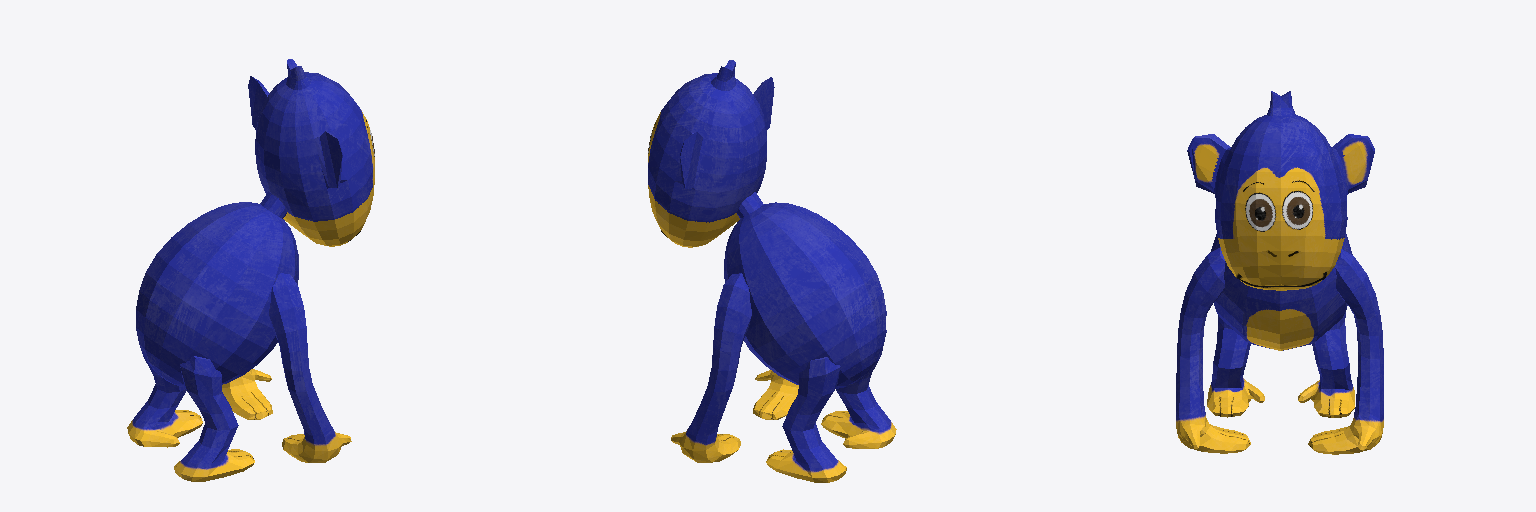
3 views of the same model, side by side, from view 1: azimuth 30°, elevation 25°; view 2: azimuth 150°, elevation 25°; view 3: azimuth 270°, elevation 25° (orthographic).
Visible parts, largest first — view 1: chimpanzees_Cube.004; view 2: chimpanzees_Cube.004; view 3: chimpanzees_Cube.004.
Part boxes in pixels (x1,y1,x2,y2): chimpanzees_Cube.004: (127, 59, 374, 481); chimpanzees_Cube.004: (648, 60, 896, 482); chimpanzees_Cube.004: (1176, 91, 1383, 454).
Size of the model in its own units: 0.7772 by 1.23 by 0.6318.
1 materials, 1 textured.